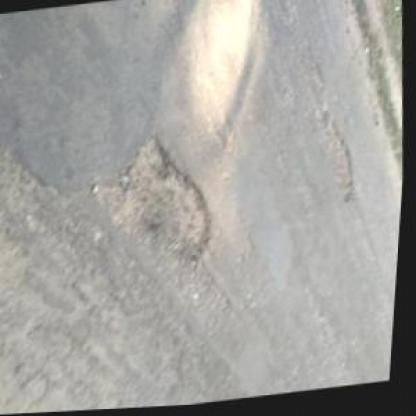pothole: (98, 126, 226, 276), (322, 118, 363, 209)
